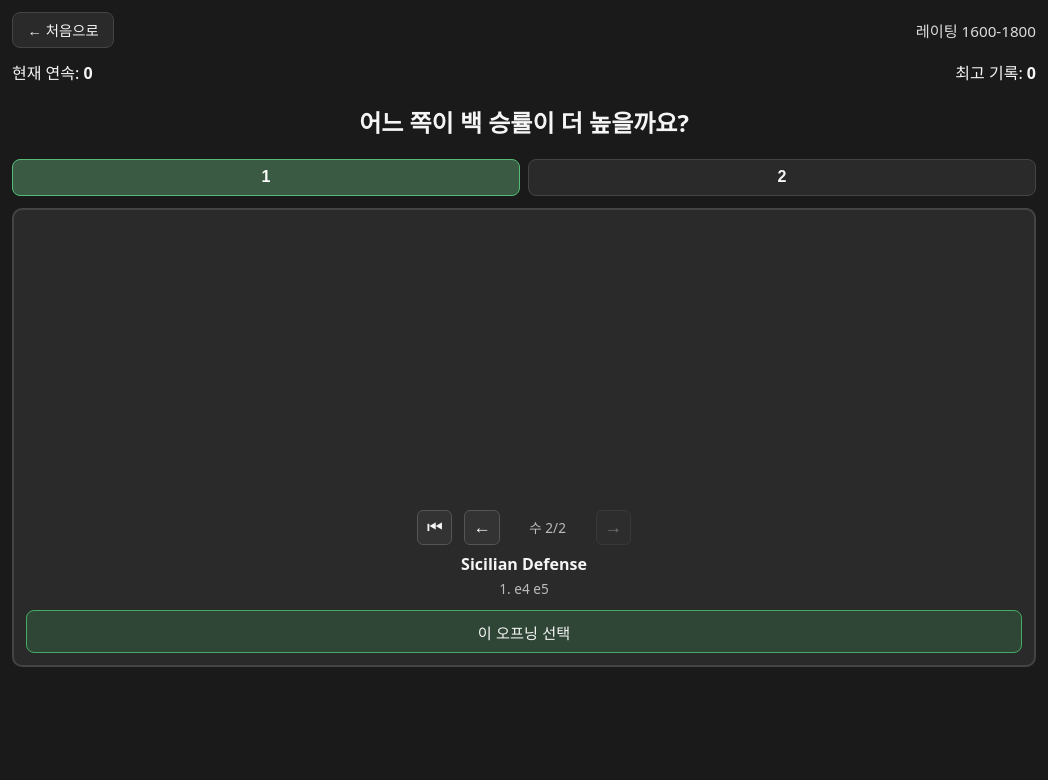
it: GameScreen layout › shows the compare panel after picking on mobile
The width and height of the screenshot is (1048, 780).
# pick the currently shown opening in the carousel
What coordinates should you click on to do the following:
click the button "이 오프닝 선택"
I would click on:
 (524, 632)
Its box is x1=26 y1=610 x2=1022 y2=653.
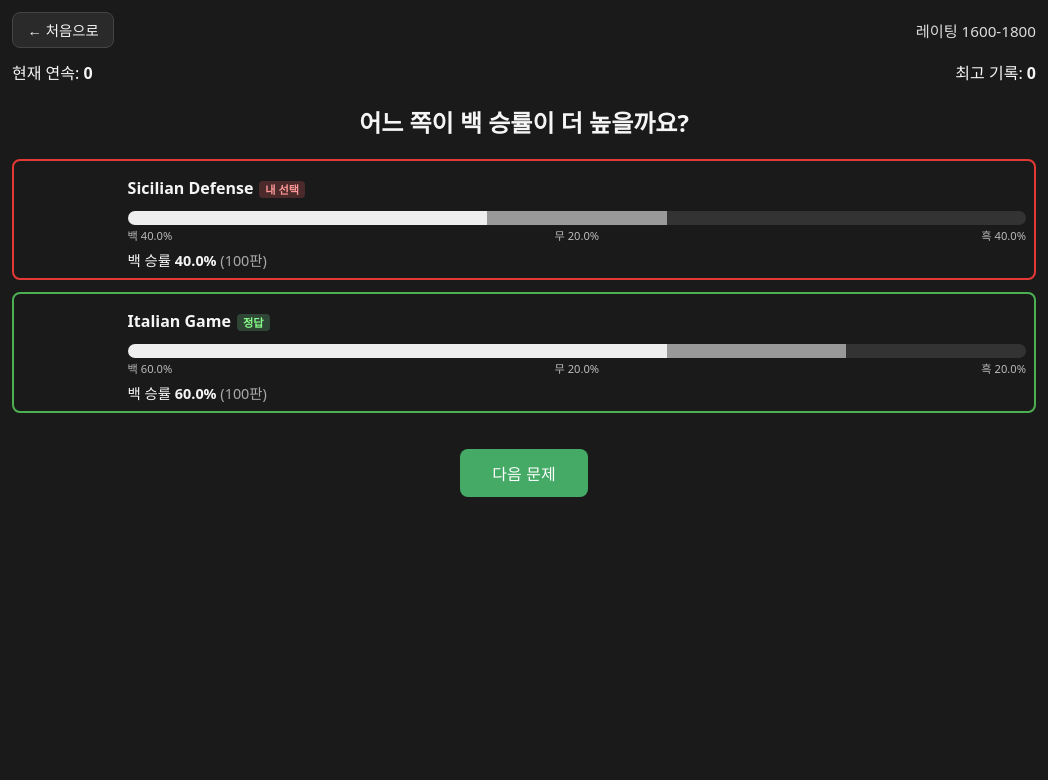
Expected: the element with class "compare-panel" is shown, x1=12 y1=159 x2=1036 y2=497
Expected: the number of elements with class "compare-row" is 2, x1=12 y1=159 x2=1036 y2=280; x1=12 y1=292 x2=1036 y2=413
Expected: the button "다음 문제" is shown, x1=460 y1=449 x2=588 y2=497
